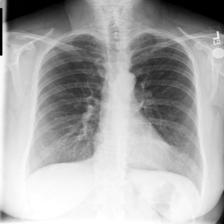normal: (21, 28, 210, 200)
